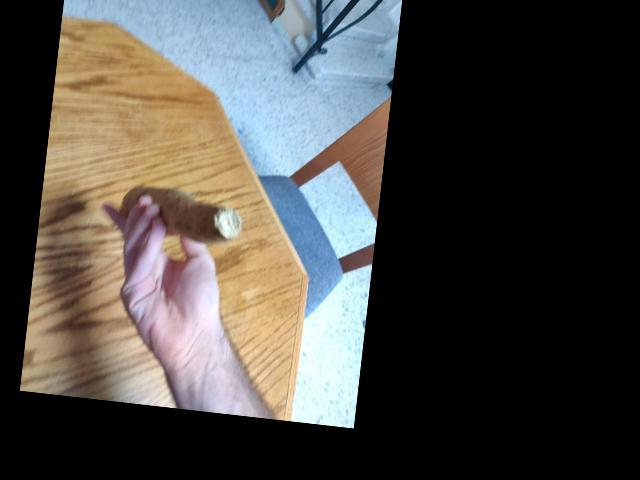sweet_potato: (124, 183, 224, 247)
